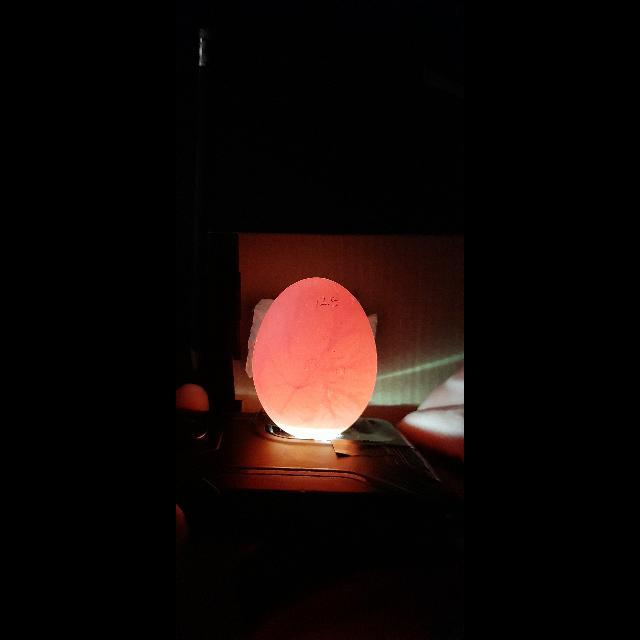Fertile: (248, 276, 382, 448)
